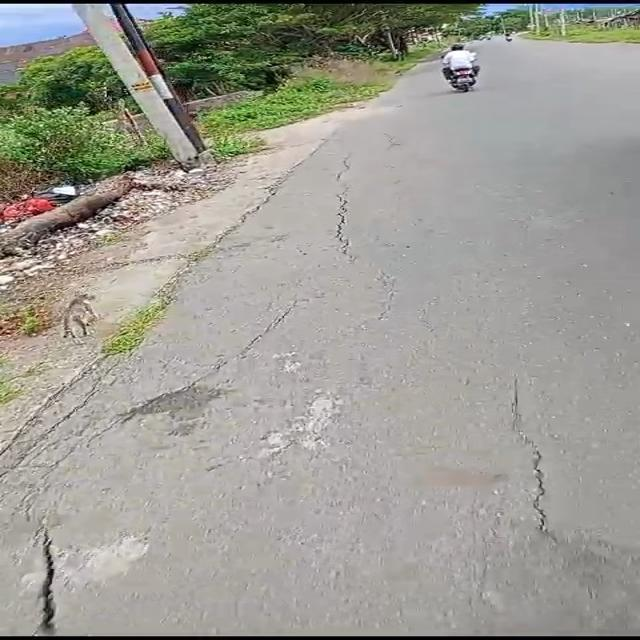Memanjang: (497, 362, 561, 550), (323, 149, 360, 273)
